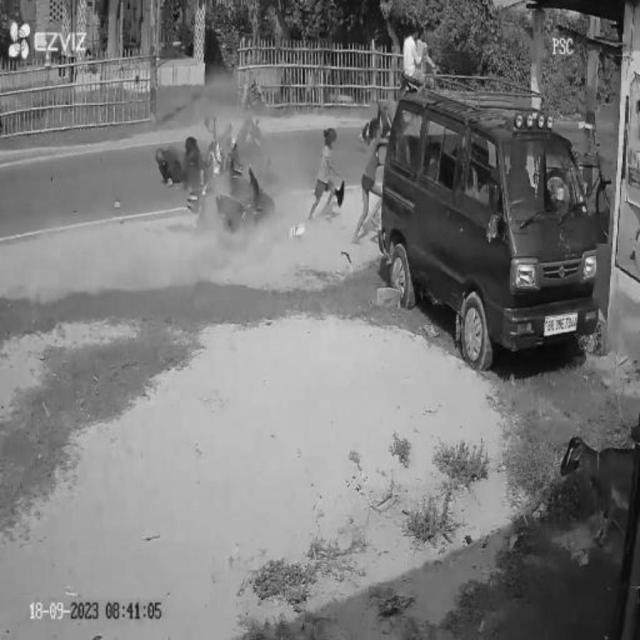accident: (156, 113, 280, 261)
person: (352, 118, 389, 252), (304, 123, 344, 233)
vehicle: (383, 100, 599, 374)
